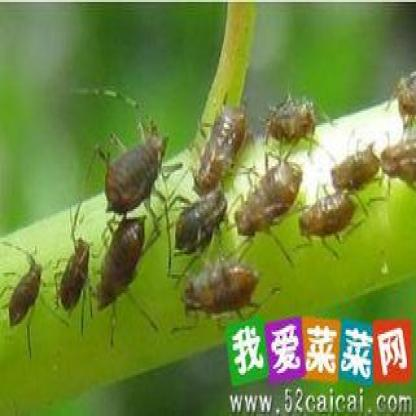aphid: (80, 97, 185, 230), (228, 147, 310, 255), (171, 239, 267, 326), (90, 209, 157, 327), (189, 89, 255, 193), (165, 173, 235, 268), (1, 230, 50, 355), (46, 213, 97, 327), (296, 174, 361, 261), (320, 132, 386, 204), (265, 75, 325, 154), (373, 127, 416, 212), (389, 65, 416, 132)
